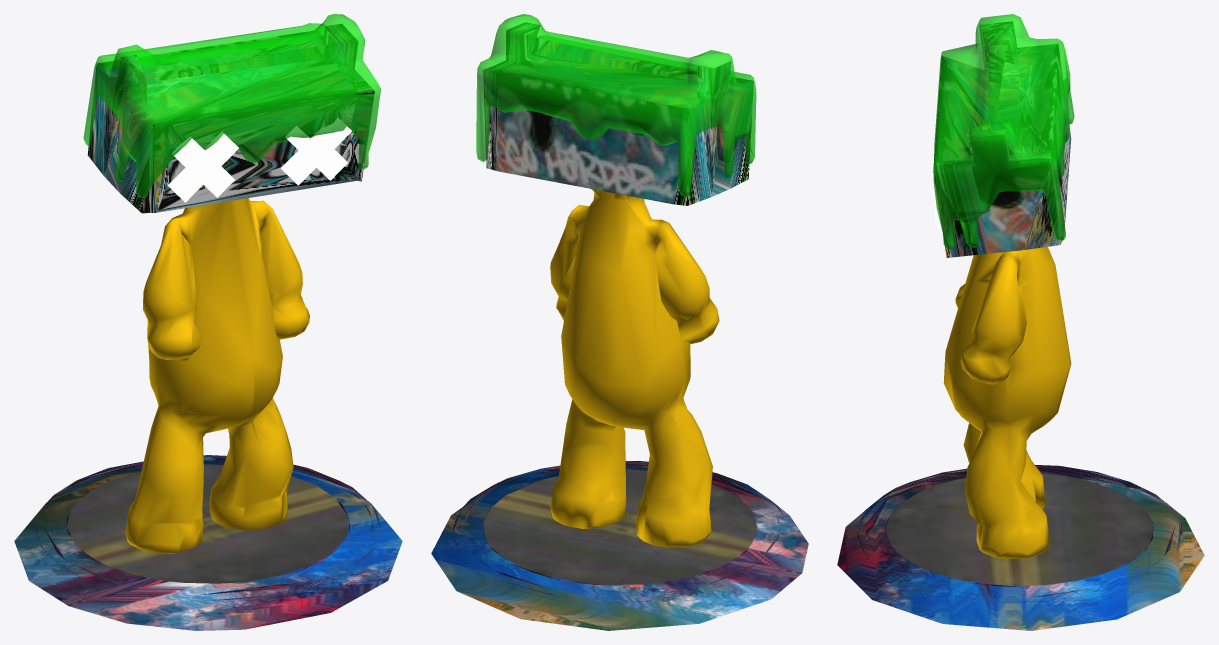
The picture shows the model from 3 angles, left to right: view 1: azimuth 30°, elevation 25°; view 2: azimuth 150°, elevation 25°; view 3: azimuth 270°, elevation 25°; orthographic projection. The views are drawn at different scales.
Size of the model in its own units: 1.44 by 2.15 by 1.44.
6 materials, 3 textured.
